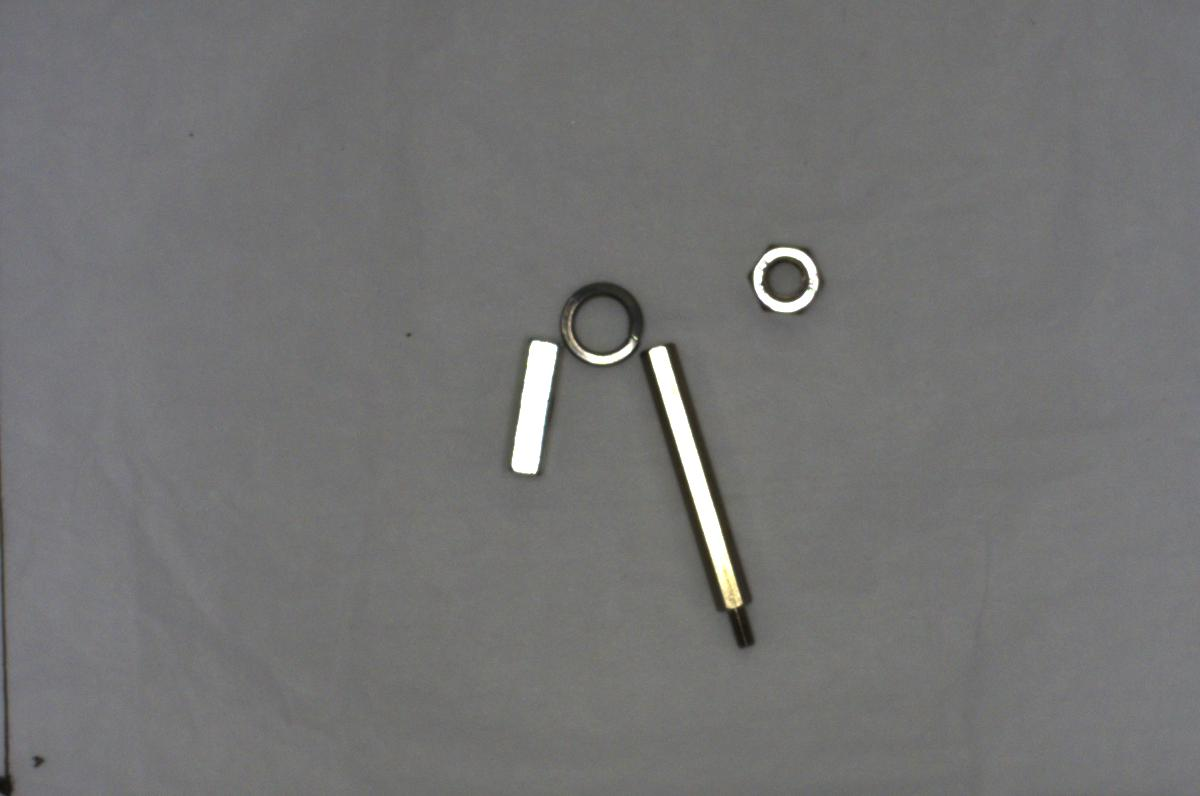Hexagon nut: (744, 234, 828, 320)
Hexagonal steel column: (635, 336, 764, 659)
Rectangular nut: (491, 333, 557, 479)
Spring washer: (554, 276, 644, 366)
